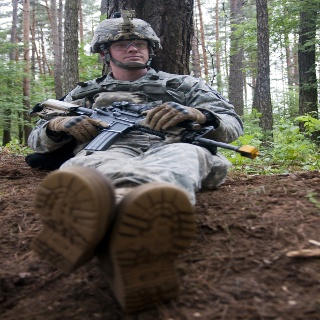rifle: (31, 98, 264, 161)
